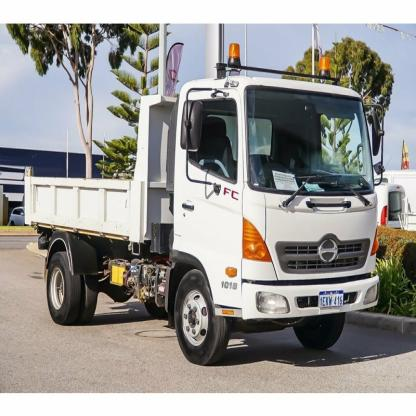dump_truck: (15, 70, 388, 377)
